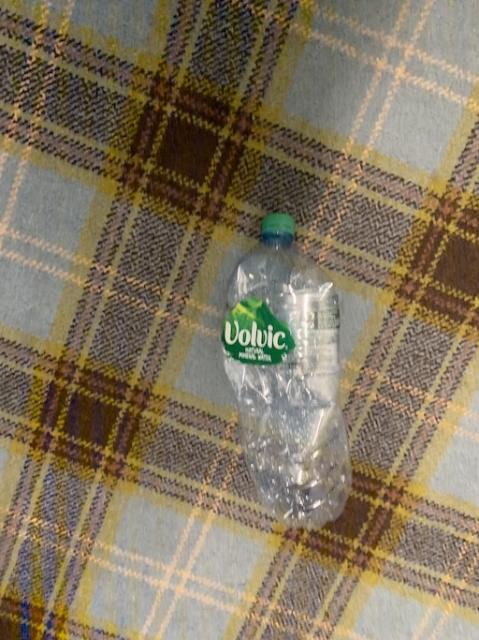plastic: (221, 212, 350, 527)
